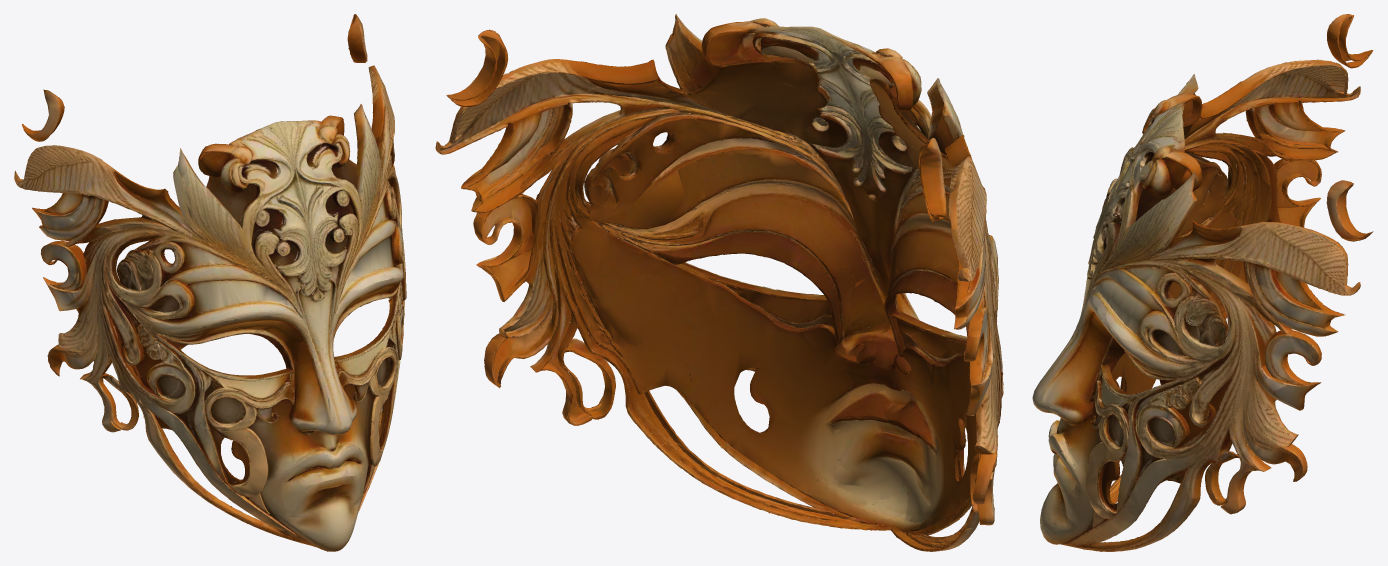
Rendered from mask_B.glb.
The picture shows the model from 3 angles, left to right: view 1: azimuth 30°, elevation 25°; view 2: azimuth 150°, elevation 25°; view 3: azimuth 270°, elevation 25°; orthographic projection. The views are drawn at different scales.
Visible parts, largest first — view 1: material; view 2: material; view 3: material.
Boxes of the visible parts, left/top/right/bottom form: material: left=14, top=14, right=406, bottom=551; material: left=435, top=14, right=1003, bottom=551; material: left=1032, top=14, right=1373, bottom=551.
Bounding box in the file's own units: 0.8092 × 0.8434 × 0.5877.
1 material, 1 textured.
